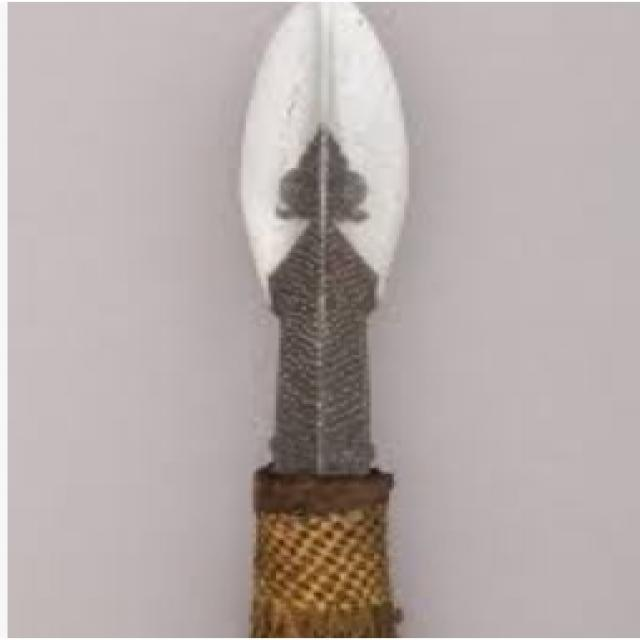spear: (208, 5, 434, 632)
